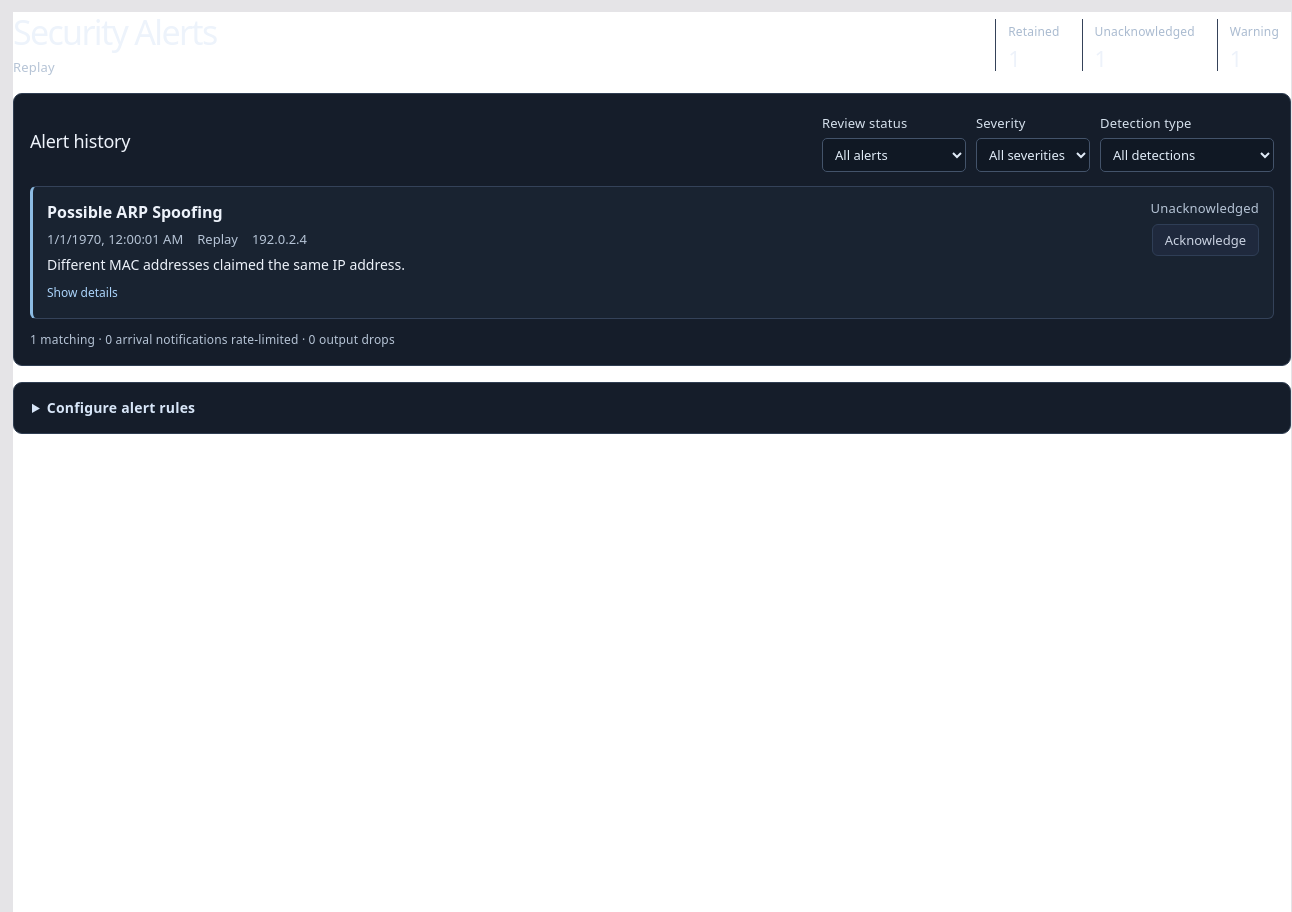
it: presents Info with full expandable evidence
The image size is (1292, 912).
Check: the text "Possible ARP Spoofing" is shown, box [47, 199, 223, 226]
Check: the text "Info" is not shown
What coordinates should you click on to do the following:
click the button that starts with "Possible ARP Spoofing"
I would click on:
 (135, 212)
Its box is [47, 199, 1137, 306].
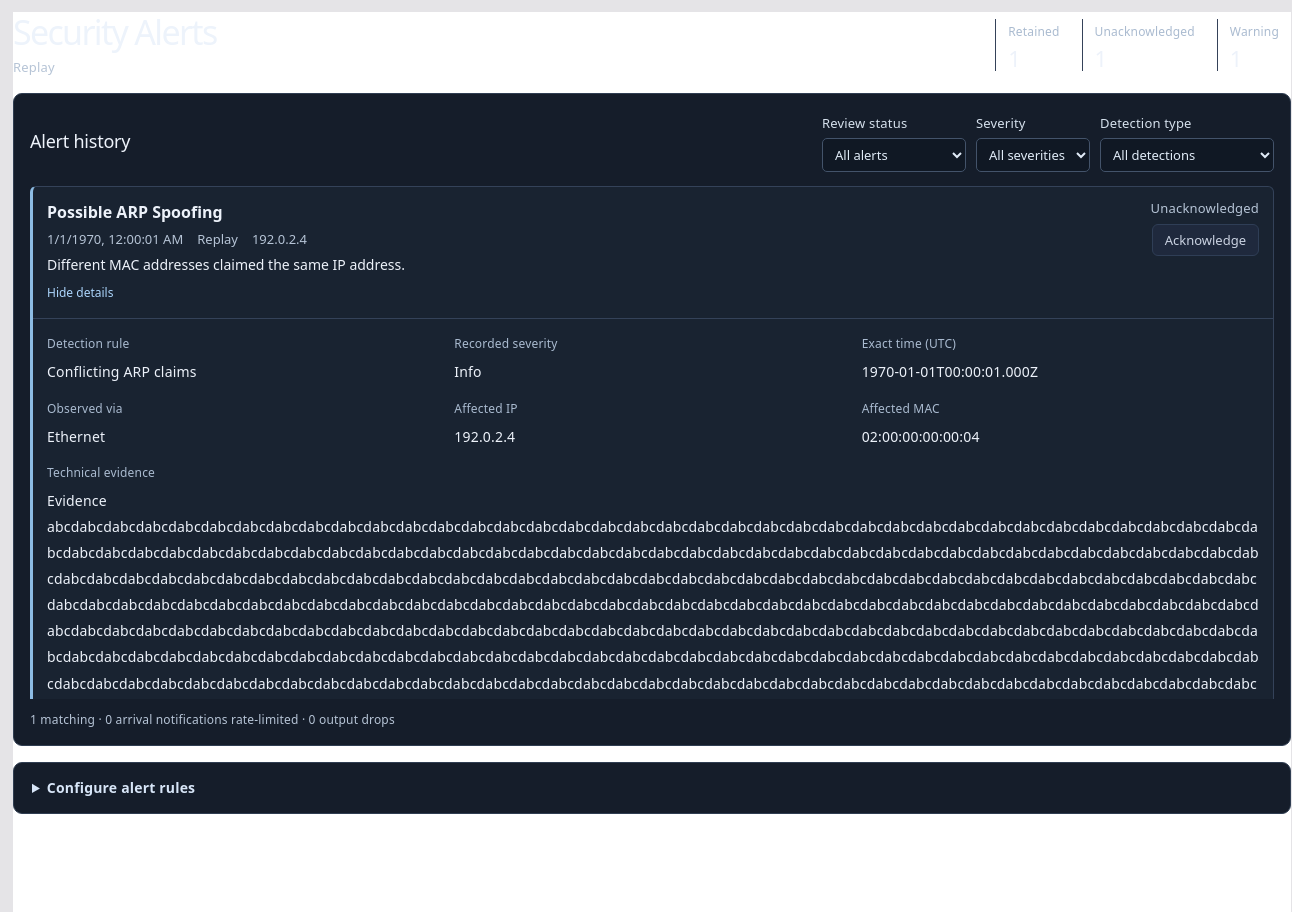
Check: the text "Info" is shown, box [454, 362, 482, 382]
Check: the text "Ethernet" is shown, box [47, 427, 105, 446]
